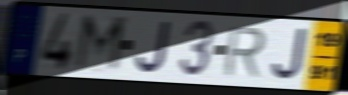3: (176, 18, 216, 81)
4: (38, 12, 74, 73)
J: (270, 27, 309, 83), (134, 19, 173, 75)
M: (71, 12, 130, 76)
R: (221, 25, 268, 79)
